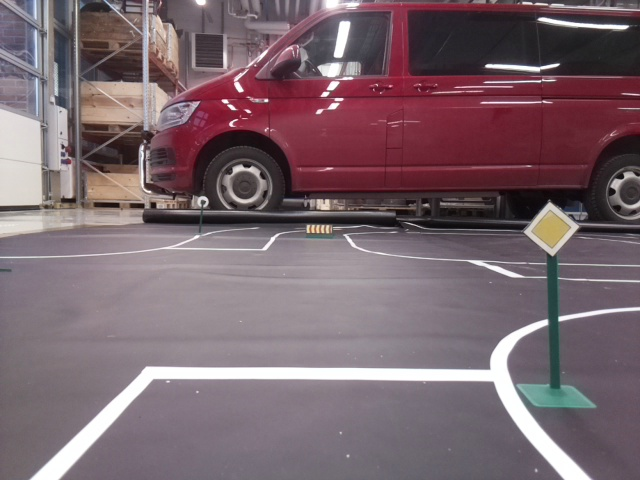Priority: (519, 199, 580, 257)
